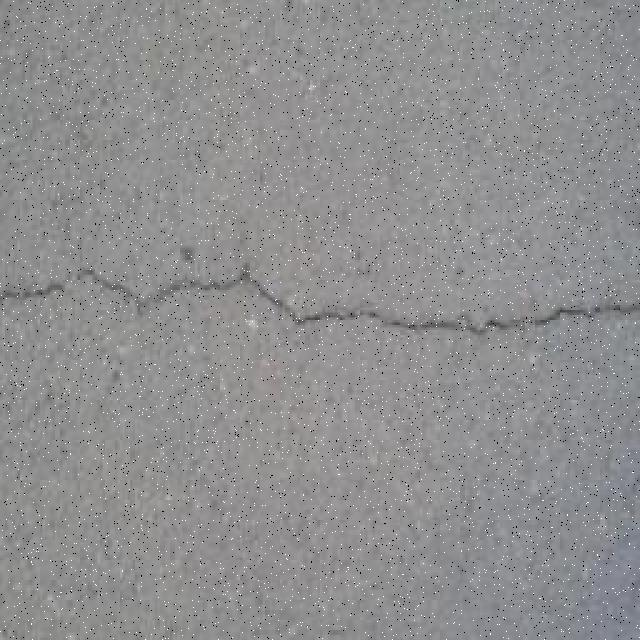moderate crack: (234, 265, 310, 317), (275, 300, 374, 324), (530, 302, 628, 323), (384, 313, 494, 331), (203, 261, 250, 290), (10, 280, 68, 297)
severe crack: (74, 265, 173, 309)
